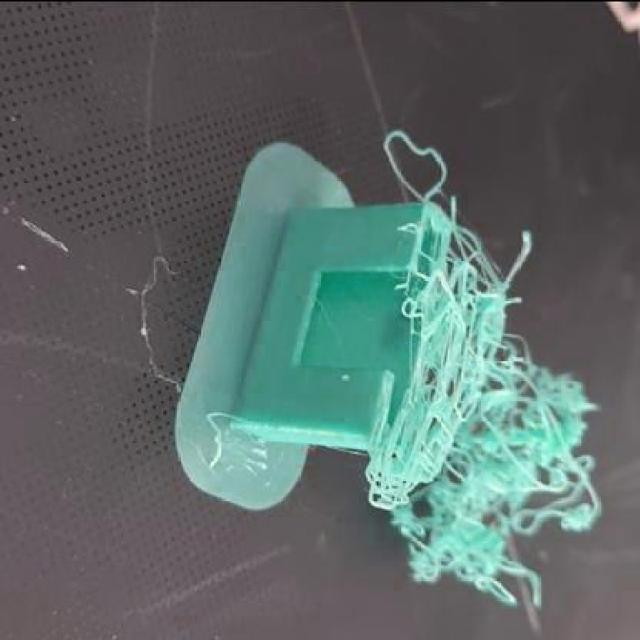Spaghetti: (365, 128, 601, 607)
